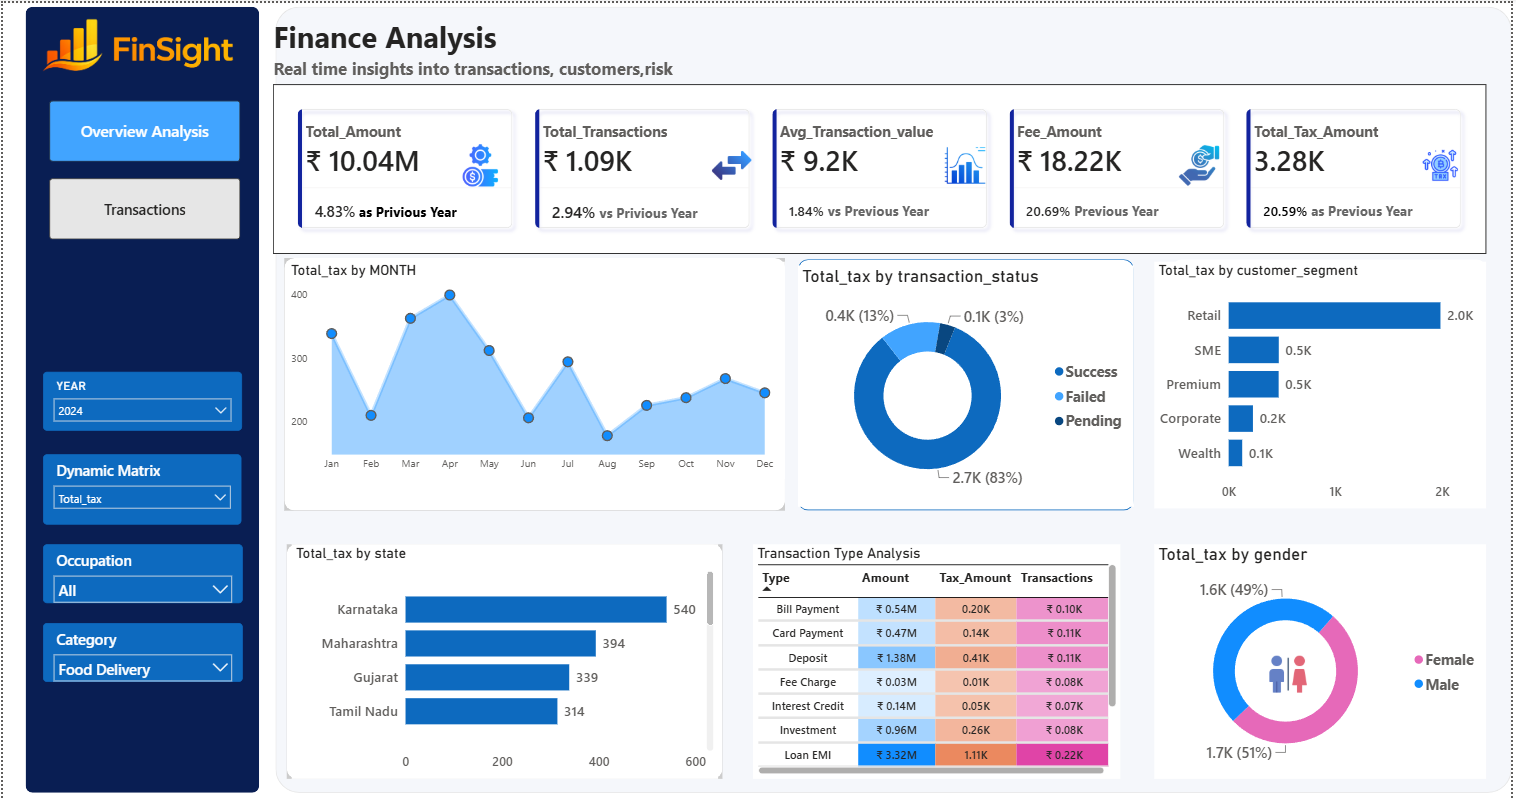

The page's visual inventory and layout, read from the dashboard file:
{"tool":"powerbi","page":{"name":"Overview Analysis","canvas":[1800,950],"ordinal":0},"visuals":[{"type":"shape","box":[26.9,5.1,279,938.1],"z":0},{"type":"shape","box":[325,5.1,1475.3,938.1],"z":1000},{"type":"image","box":[26.9,5.1,274.5,92.6],"z":2000},{"type":"cardVisual","fields":{"Data":["calander__table.dashboard title"]},"box":[306.5,0,547.3,107.8],"z":3000},{"type":"cardVisual","fields":{"Data":["finance_transactions.TotalAmount","finance_transactions.Total Transactions","calander__table.AvgTransaction value","Sum(finance_transactions.fee_amount)","finance_transactions.Total_Tax_Amount"]},"box":[321.7,97.7,1448.4,202.1],"z":4000},{"type":"slicer","fields":{"Values":["calander__table.YEAR"]},"box":[47.2,439.6,237.5,70.7],"z":5000},{"type":"image","box":[544.5,168.6,50.7,50.7],"z":6000},{"type":"image","box":[844.4,168.6,50.7,50.7],"z":7000},{"type":"image","box":[1391.9,168.6,71.6,50.7],"z":8000},{"type":"image","box":[1117.4,168.6,61.2,50.7],"z":9000},{"type":"image","box":[1690.3,168.6,50.7,50.7],"z":10000},{"type":"slicer","fields":{"Values":["Dynamic Matrix.Dynamic Matrix"]},"box":[48.1,538.9,236.8,84.1],"z":11000},{"type":"shape","box":[335.1,304.8,597.9,301.5],"z":12000},{"type":"areaChart","fields":{"Y":["calander__table.Total_tax"],"Category":["calander__table.MONTH"]},"box":[338.5,308.2,594.5,259.4],"z":13000},{"type":"shape","box":[948.2,306.5,400.8,299.8],"z":14000},{"type":"donutChart","fields":{"Y":["calander__table.Total_tax"],"Category":["finance_transactions.transaction_status"]},"box":[948.4,314,400.6,287.8],"z":15000},{"type":"shape","box":[1394.5,306.5,375.6,296.4],"z":16000},{"type":"barChart","fields":{"Y":["calander__table.Total_tax"],"Category":["customers.customer_segment"]},"box":[1374.3,308.2,395.8,294.7],"z":17000},{"type":"shape","box":[338.5,645.9,520,279.6],"z":18000},{"type":"barChart","fields":{"Y":["calander__table.Total_tax"],"Category":["customers.state"]},"box":[345,645.9,508.5,279.6],"z":19000},{"type":"tableEx","title":"Transaction Type Analysis","fields":{"Values":["finance_transactions.transaction_type","finance_transactions.TotalAmount","finance_transactions.Total_Tax_Amount","finance_transactions.Total Transactions"]},"box":[894.4,645.9,438.2,279.6],"z":20000},{"type":"donutChart","fields":{"Y":["calander__table.Total_tax"],"Category":["customers.gender"]},"box":[1373.6,645.9,395.7,279.6],"z":21000},{"type":"image","box":[1497.8,775.1,71.9,50.7],"z":22000},{"type":"slicer","fields":{"Values":["customers.occupation"]},"box":[48.1,645.3,238.6,70.4],"z":23000},{"type":"slicer","fields":{"Values":["finance_transactions.merchant_category"]},"box":[48.1,739.7,238.6,70.4],"z":24000},{"type":"pageNavigator","box":[54.9,116.7,228.3,166.5],"z":25000}]}

Visuals, with their boxes in screenshot pixels (x1, y1, x2, y2), scaled from the page's 1800x950 canvas onto the 1516x798 screenshot:
shape: 23 4 258 792
shape: 274 4 1515 792
image: 23 4 254 82
cardVisual - calander__table.dashboard title: 258 0 719 91
cardVisual - finance_transactions.TotalAmount x finance_transactions.Total Transactions: 271 82 1491 252
slicer - calander__table.YEAR: 40 369 240 429
image: 459 142 501 184
image: 711 142 754 184
image: 1172 142 1233 184
image: 941 142 993 184
image: 1424 142 1466 184
slicer - Dynamic Matrix.Dynamic Matrix: 41 453 240 523
shape: 282 256 786 509
areaChart - calander__table.Total_tax x calander__table.MONTH: 285 259 786 477
shape: 799 257 1136 509
donutChart - calander__table.Total_tax x finance_transactions.transaction_status: 799 264 1136 506
shape: 1174 257 1491 506
barChart - calander__table.Total_tax x customers.customer_segment: 1157 259 1491 506
shape: 285 543 723 777
barChart - calander__table.Total_tax x customers.state: 291 543 719 777
"Transaction Type Analysis" tableEx: 753 543 1122 777
donutChart - calander__table.Total_tax x customers.gender: 1157 543 1490 777
image: 1261 651 1322 694
slicer - customers.occupation: 41 542 241 601
slicer - finance_transactions.merchant_category: 41 621 241 680
pageNavigator: 46 98 239 238
